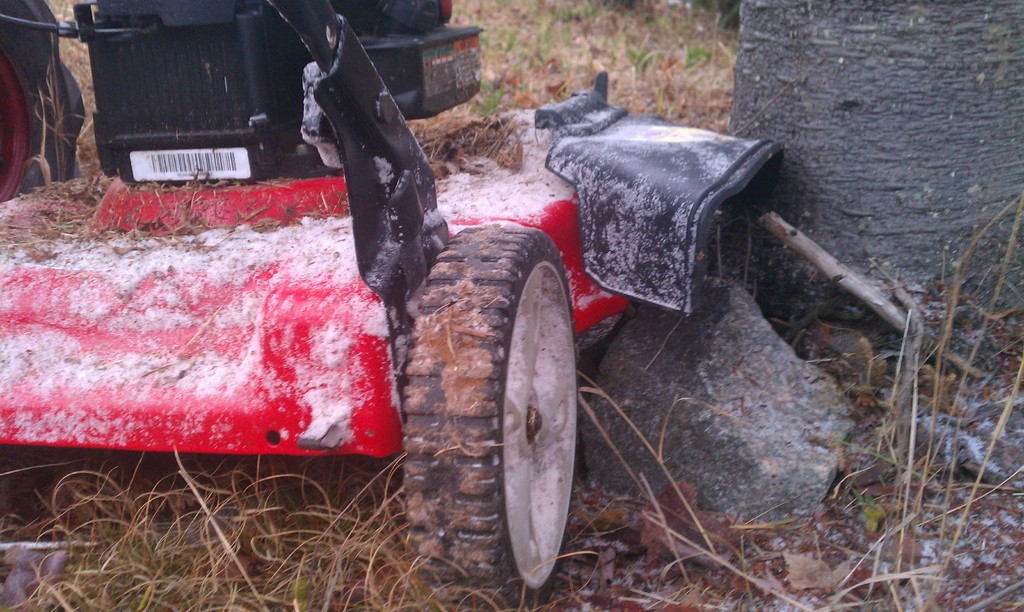Tree: (711, 0, 1023, 329)
